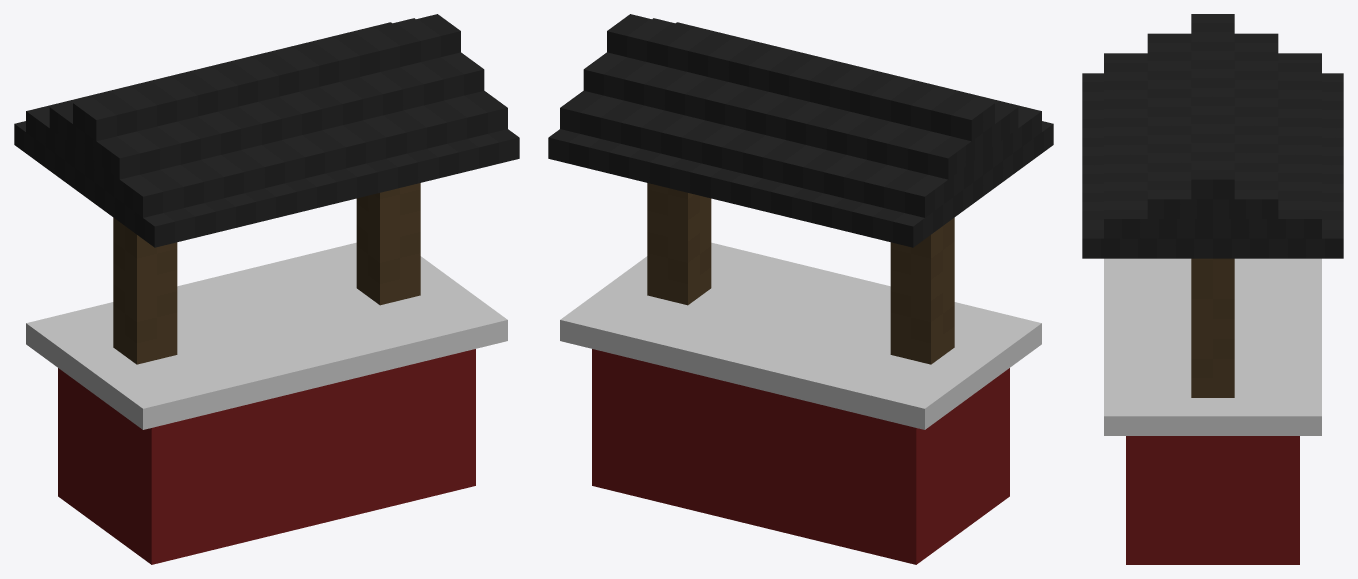
Rendered from Shop.fbx.
3 views of the same model, side by side, from view 1: azimuth 30°, elevation 25°; view 2: azimuth 150°, elevation 25°; view 3: azimuth 270°, elevation 25° (orthographic). The views are drawn at different scales.
Visible parts, largest first — view 1: Stand; view 2: Stand; view 3: Stand.
Part boxes in pixels (x1=…): Stand: x1=14, y1=14, x2=519, y2=564; Stand: x1=548, y1=14, x2=1053, y2=564; Stand: x1=1082, y1=14, x2=1343, y2=564.
Size of the model in its own units: 225 by 250 by 150.
1 material, 1 textured.
